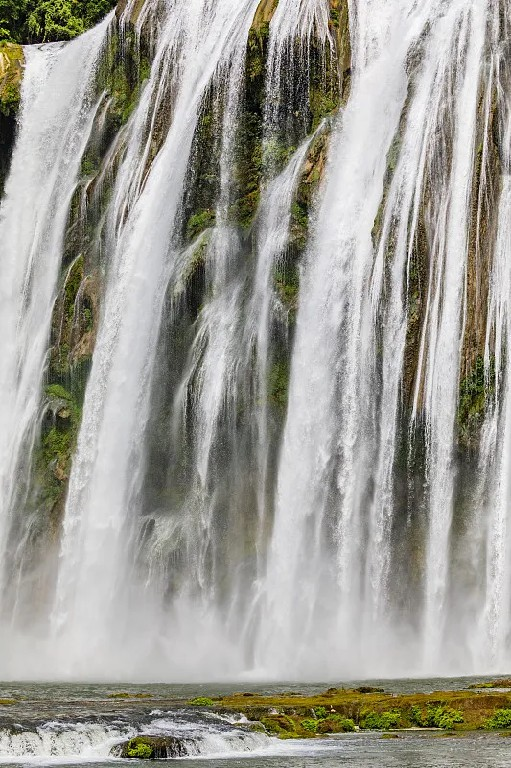Huangguoshu: (1, 1, 511, 682)
